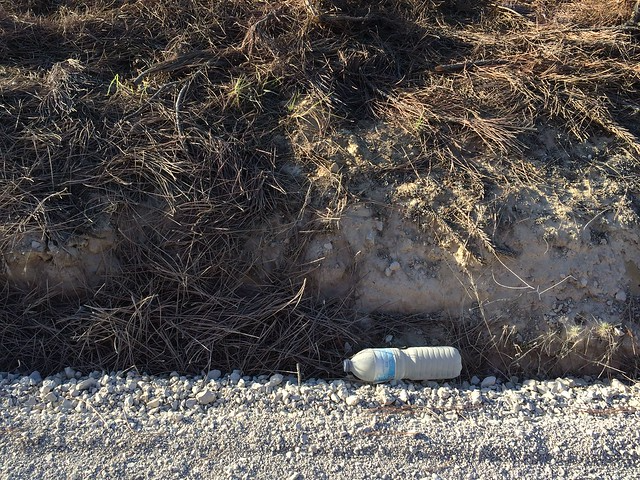bottle: (335, 336, 468, 387)
